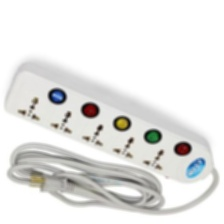three_eye_plug: (1, 56, 217, 184)
